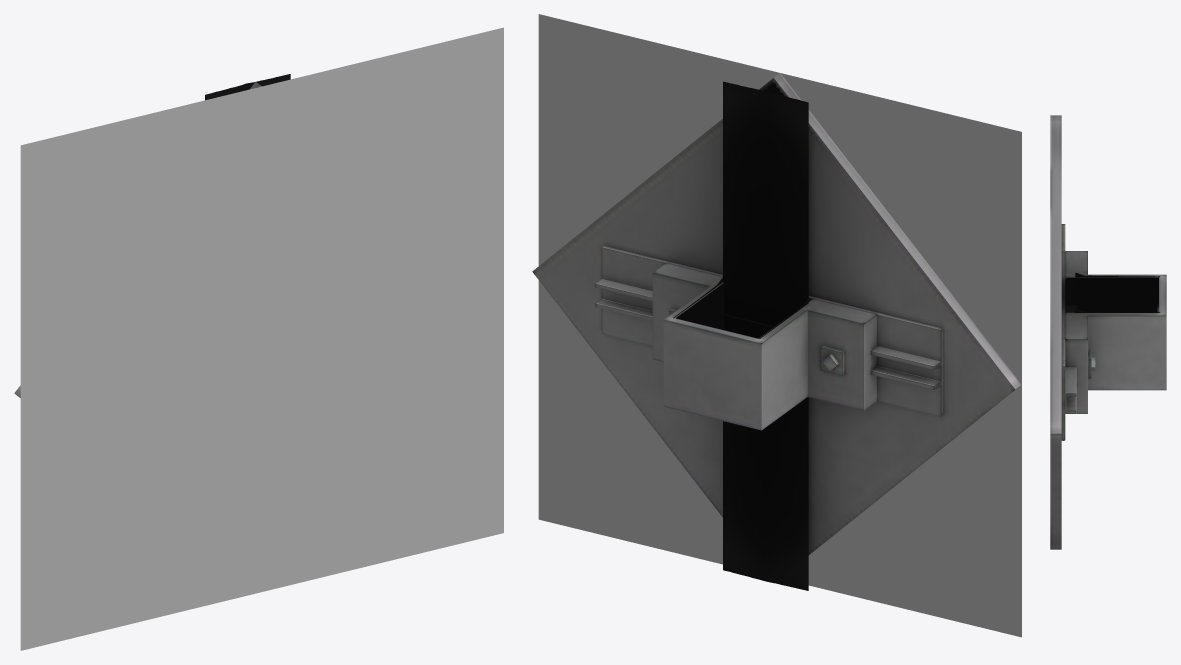
Rendered from sign_vertical.obj.
3 renders of one model, left to right at view 1: azimuth 30°, elevation 25°; view 2: azimuth 150°, elevation 25°; view 3: azimuth 270°, elevation 25°, orthographic. The views are drawn at different scales.
Visible parts, largest first — view 1: display; view 2: display, sign_vertical, pole_ao_vertical, hanger_vertical, french_cleat_vertical, screw_vertical; view 3: hanger_vertical, sign_vertical, french_cleat_vertical, pole_ao_vertical.
Part boxes in pixels (x1=…): display: x1=20, y1=27, x2=503, y2=650; display: x1=538, y1=14, x2=1021, y2=637; sign_vertical: x1=532, y1=73, x2=1021, y2=555; pole_ao_vertical: x1=673, y1=81, x2=808, y2=590; hanger_vertical: x1=652, y1=263, x2=877, y2=430; french_cleat_vertical: x1=595, y1=246, x2=943, y2=416; screw_vertical: x1=669, y1=308, x2=845, y2=376; hanger_vertical: x1=1065, y1=251, x2=1166, y2=413; sign_vertical: x1=1050, y1=115, x2=1061, y2=549; french_cleat_vertical: x1=1061, y1=224, x2=1076, y2=440; pole_ao_vertical: x1=1075, y1=272, x2=1160, y2=339.
Size of the model in its own units: 0.3516 by 0.423 by 0.0851.
